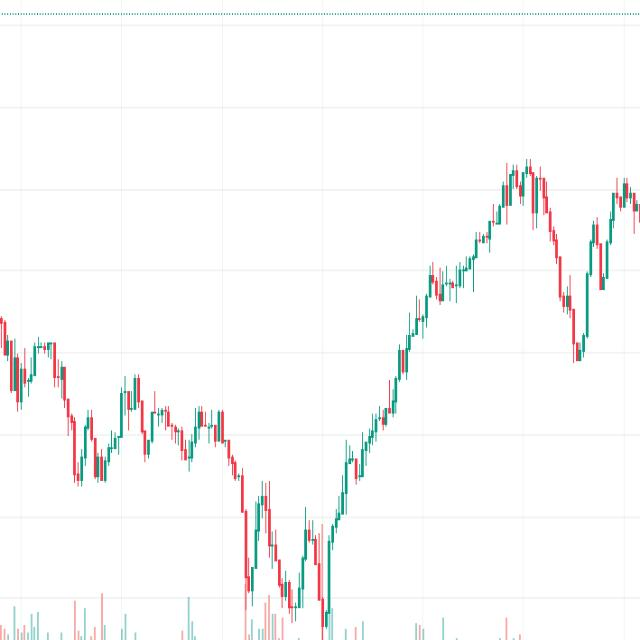Triple-Bottom: (233, 492, 342, 620)
